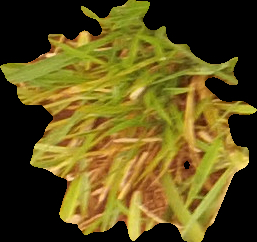grass: (2, 1, 255, 240)
